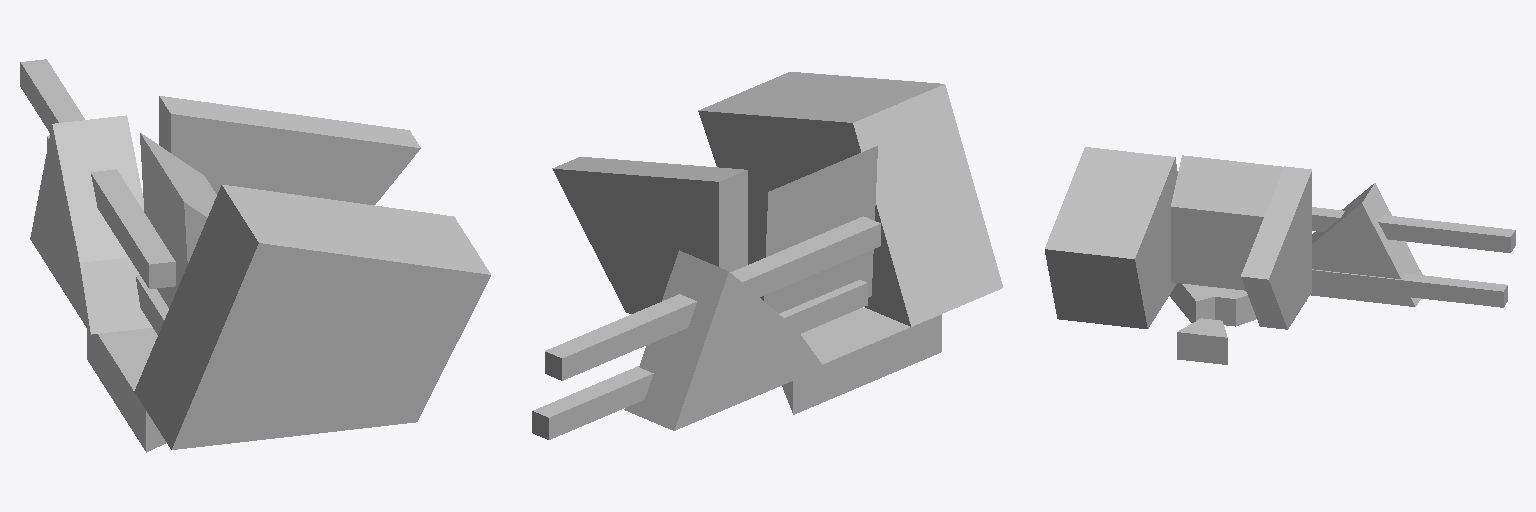
robot.urdf — c1:
<?xml version="1.0" encoding="utf-8"?>
<robot name="c1">
  <link name="gripper_base">
    <visual>
      <geometry>
        <mesh filename="package://c1/meshes/visual/L0_visual_0.stl" scale="0.001 0.001 0.001"/>
      </geometry>
      <material name="Material">
        <color rgba="0.8 0.8 0.8 1.0"/>
      </material>
    </visual>
    <visual>
      <geometry>
        <mesh filename="package://c1/meshes/visual/L0_visual_1.stl" scale="0.001 0.001 0.001"/>
      </geometry>
      <material name="Material">
        <color rgba="0.8 0.8 0.8 1.0"/>
      </material>
    </visual>
    <visual>
      <geometry>
        <mesh filename="package://c1/meshes/visual/L0_visual_2.stl" scale="0.001 0.001 0.001"/>
      </geometry>
      <material name="Material">
        <color rgba="0.8 0.8 0.8 1.0"/>
      </material>
    </visual>
    <visual>
      <geometry>
        <mesh filename="package://c1/meshes/visual/L0_visual_3.stl" scale="0.001 0.001 0.001"/>
      </geometry>
      <material name="Material">
        <color rgba="0.8 0.8 0.8 1.0"/>
      </material>
    </visual>
    <visual>
      <geometry>
        <mesh filename="package://c1/meshes/visual/L0_visual_4.stl" scale="0.001 0.001 0.001"/>
      </geometry>
      <material name="Material">
        <color rgba="0.8 0.8 0.8 1.0"/>
      </material>
    </visual>
    <visual>
      <geometry>
        <mesh filename="package://c1/meshes/visual/L0_visual_5.stl" scale="0.001 0.001 0.001"/>
      </geometry>
      <material name="Material">
        <color rgba="0.8 0.8 0.8 1.0"/>
      </material>
    </visual>
    <visual>
      <geometry>
        <mesh filename="package://c1/meshes/visual/L0_visual_6.stl" scale="0.001 0.001 0.001"/>
      </geometry>
      <material name="Material">
        <color rgba="0.8 0.8 0.8 1.0"/>
      </material>
    </visual>
    <visual>
      <geometry>
        <mesh filename="package://c1/meshes/visual/L0_visual_7.stl" scale="0.001 0.001 0.001"/>
      </geometry>
      <material name="Material">
        <color rgba="0.8 0.8 0.8 1.0"/>
      </material>
    </visual>
    <visual>
      <geometry>
        <mesh filename="package://c1/meshes/visual/L0_visual_8.stl" scale="0.001 0.001 0.001"/>
      </geometry>
      <material name="Material">
        <color rgba="0.8 0.8 0.8 1.0"/>
      </material>
    </visual>
    <visual>
      <geometry>
        <mesh filename="package://c1/meshes/visual/L0_visual_9.stl" scale="0.001 0.001 0.001"/>
      </geometry>
      <material name="Material">
        <color rgba="0.8 0.8 0.8 1.0"/>
      </material>
    </visual>
    <visual>
      <geometry>
        <mesh filename="package://c1/meshes/visual/L0_visual_10.stl" scale="0.001 0.001 0.001"/>
      </geometry>
      <material name="Material">
        <color rgba="0.8 0.8 0.8 1.0"/>
      </material>
    </visual>
    <visual>
      <geometry>
        <mesh filename="package://c1/meshes/visual/L0_visual_11.stl" scale="0.001 0.001 0.001"/>
      </geometry>
      <material name="Material">
        <color rgba="0.8 0.8 0.8 1.0"/>
      </material>
    </visual>
    <visual>
      <geometry>
        <mesh filename="package://c1/meshes/visual/L0_visual_12.stl" scale="0.001 0.001 0.001"/>
      </geometry>
      <material name="Material">
        <color rgba="0.8 0.8 0.8 1.0"/>
      </material>
    </visual>
    <visual>
      <geometry>
        <mesh filename="package://c1/meshes/visual/L0_visual_13.stl" scale="0.001 0.001 0.001"/>
      </geometry>
      <material name="Material">
        <color rgba="0.8 0.8 0.8 1.0"/>
      </material>
    </visual>
    <visual>
      <geometry>
        <mesh filename="package://c1/meshes/visual/L0_visual_14.stl" scale="0.001 0.001 0.001"/>
      </geometry>
      <material name="Material">
        <color rgba="0.8 0.8 0.8 1.0"/>
      </material>
    </visual>
    <visual>
      <geometry>
        <mesh filename="package://c1/meshes/visual/L0_visual_15.stl" scale="0.001 0.001 0.001"/>
      </geometry>
      <material name="Material">
        <color rgba="0.8 0.8 0.8 1.0"/>
      </material>
    </visual>
    <collision>
      <geometry>
        <mesh filename="package://c1/meshes/collision/L0_collision_0.stl" scale="0.001 0.001 0.001"/>
      </geometry>
    </collision>
    <collision>
      <geometry>
        <mesh filename="package://c1/meshes/collision/L0_collision_1.stl" scale="0.001 0.001 0.001"/>
      </geometry>
    </collision>
    <collision>
      <geometry>
        <mesh filename="package://c1/meshes/collision/L0_collision_2.stl" scale="0.001 0.001 0.001"/>
      </geometry>
    </collision>
    <collision>
      <geometry>
        <mesh filename="package://c1/meshes/collision/L0_collision_3.stl" scale="0.001 0.001 0.001"/>
      </geometry>
    </collision>
    <collision>
      <geometry>
        <mesh filename="package://c1/meshes/collision/L0_collision_4.stl" scale="0.001 0.001 0.001"/>
      </geometry>
    </collision>
    <collision>
      <geometry>
        <mesh filename="package://c1/meshes/collision/L0_collision_5.stl" scale="0.001 0.001 0.001"/>
      </geometry>
    </collision>
    <collision>
      <geometry>
        <mesh filename="package://c1/meshes/collision/L0_collision_6.stl" scale="0.001 0.001 0.001"/>
      </geometry>
    </collision>
    <collision>
      <geometry>
        <mesh filename="package://c1/meshes/collision/L0_collision_7.stl" scale="0.001 0.001 0.001"/>
      </geometry>
    </collision>
    <collision>
      <geometry>
        <mesh filename="package://c1/meshes/collision/L0_collision_8.stl" scale="0.001 0.001 0.001"/>
      </geometry>
    </collision>
    <collision>
      <geometry>
        <mesh filename="package://c1/meshes/collision/L0_collision_9.stl" scale="0.001 0.001 0.001"/>
      </geometry>
    </collision>
    <collision>
      <geometry>
        <mesh filename="package://c1/meshes/collision/L0_collision_10.stl" scale="0.001 0.001 0.001"/>
      </geometry>
    </collision>
    <collision>
      <geometry>
        <mesh filename="package://c1/meshes/collision/L0_collision_11.stl" scale="0.001 0.001 0.001"/>
      </geometry>
    </collision>
    <collision>
      <geometry>
        <mesh filename="package://c1/meshes/collision/L0_collision_12.stl" scale="0.001 0.001 0.001"/>
      </geometry>
    </collision>
    <collision>
      <geometry>
        <mesh filename="package://c1/meshes/collision/L0_collision_13.stl" scale="0.001 0.001 0.001"/>
      </geometry>
    </collision>
    <collision>
      <geometry>
        <mesh filename="package://c1/meshes/collision/L0_collision_14.stl" scale="0.001 0.001 0.001"/>
      </geometry>
    </collision>
    <collision>
      <geometry>
        <mesh filename="package://c1/meshes/collision/L0_collision_15.stl" scale="0.001 0.001 0.001"/>
      </geometry>
    </collision>
  </link>
  <link name="gripper_jaw">
    <visual>
      <geometry>
        <mesh filename="package://c1/meshes/visual/L1_visual_0.stl" scale="0.001 0.001 0.001"/>
      </geometry>
      <material name="Material">
        <color rgba="0.8 0.8 0.8 1.0"/>
      </material>
    </visual>
    <visual>
      <geometry>
        <mesh filename="package://c1/meshes/visual/L1_visual_1.stl" scale="0.001 0.001 0.001"/>
      </geometry>
      <material name="Material">
        <color rgba="0.8 0.8 0.8 1.0"/>
      </material>
    </visual>
    <visual>
      <geometry>
        <mesh filename="package://c1/meshes/visual/L1_visual_2.stl" scale="0.001 0.001 0.001"/>
      </geometry>
      <material name="Material">
        <color rgba="0.8 0.8 0.8 1.0"/>
      </material>
    </visual>
    <collision>
      <geometry>
        <mesh filename="package://c1/meshes/collision/L1_collision_0.stl" scale="0.001 0.001 0.001"/>
      </geometry>
    </collision>
    <collision>
      <geometry>
        <mesh filename="package://c1/meshes/collision/L1_collision_1.stl" scale="0.001 0.001 0.001"/>
      </geometry>
    </collision>
    <collision>
      <geometry>
        <mesh filename="package://c1/meshes/collision/L1_collision_2.stl" scale="0.001 0.001 0.001"/>
      </geometry>
    </collision>
  </link>
  <link name="clamp_jaw">
    <visual>
      <geometry>
        <mesh filename="package://c1/meshes/visual/L2_visual_0.stl" scale="0.001 0.001 0.001"/>
      </geometry>
      <material name="Material">
        <color rgba="0.8 0.8 0.8 1.0"/>
      </material>
    </visual>
    <visual>
      <geometry>
        <mesh filename="package://c1/meshes/visual/L2_visual_1.stl" scale="0.001 0.001 0.001"/>
      </geometry>
      <material name="Material">
        <color rgba="0.8 0.8 0.8 1.0"/>
      </material>
    </visual>
    <visual>
      <geometry>
        <mesh filename="package://c1/meshes/visual/L2_visual_2.stl" scale="0.001 0.001 0.001"/>
      </geometry>
      <material name="Material">
        <color rgba="0.8 0.8 0.8 1.0"/>
      </material>
    </visual>
    <collision>
      <geometry>
        <mesh filename="package://c1/meshes/collision/L2_collision_0.stl" scale="0.001 0.001 0.001"/>
      </geometry>
    </collision>
    <collision>
      <geometry>
        <mesh filename="package://c1/meshes/collision/L2_collision_1.stl" scale="0.001 0.001 0.001"/>
      </geometry>
    </collision>
    <collision>
      <geometry>
        <mesh filename="package://c1/meshes/collision/L2_collision_2.stl" scale="0.001 0.001 0.001"/>
      </geometry>
    </collision>
  </link>
  <joint name="joint_gripper_jaw" type="prismatic">
    <parent link="gripper_base"/>
    <child link="gripper_jaw"/>
    <axis xyz="0.258029017661 0.966137167303 3.56867313478e-13"/>
    <limit effort="0.0" upper="0.04" velocity="0.0"/>
    <origin rpy="0.0 0.0 0.0" xyz="0.0 0.0 0.0"/>
  </joint>
  <joint name="joint_clamp_jaw" type="prismatic">
    <parent link="gripper_base"/>
    <child link="clamp_jaw"/>
    <axis xyz="0.258029017661 0.966137167303 3.56867313478e-13"/>
    <limit effort="0.0" lower="0.1" upper="0.24" velocity="0.0"/>
    <origin rpy="0.0 0.0 0.0" xyz="0.0 0.0 0.0"/>
  </joint>
</robot>

--- Facts derived from the render (not from the file) ---
The picture shows the robot from 3 angles, left to right: view 1: azimuth 30°, elevation 25°; view 2: azimuth 150°, elevation 25°; view 3: azimuth 270°, elevation 25°; orthographic projection.
Model c1 with 3 links and 2 joints (2 prismatic), rooted at gripper_base, posed all joints at 0 but 1 set to mid-range because 0 is outside their limits (joint_clamp_jaw = 0.17).
Links seen in each view (by area): view 1: gripper_base, gripper_jaw, clamp_jaw; view 2: gripper_base, gripper_jaw, clamp_jaw; view 3: gripper_base, gripper_jaw, clamp_jaw.
Link boxes in pixels (x1=…): gripper_base: x1=20, y1=59, x2=490, y2=452; gripper_jaw: x1=159, y1=96, x2=420, y2=204; clamp_jaw: x1=30, y1=115, x2=152, y2=334; gripper_base: x1=532, y1=72, x2=1002, y2=439; gripper_jaw: x1=552, y1=157, x2=747, y2=313; clamp_jaw: x1=624, y1=250, x2=824, y2=430; gripper_base: x1=1045, y1=147, x2=1515, y2=364; gripper_jaw: x1=1241, y1=166, x2=1311, y2=329; clamp_jaw: x1=1310, y1=183, x2=1422, y2=306.
Size in the robot's own frame: 0.2483 by 0.4225 by 0.1557 metres.
Meshes: 22 distinct files referenced, 9 mesh visuals loaded (9 binary STL); not drawn: 13 (reference not matched to a file when rendering).